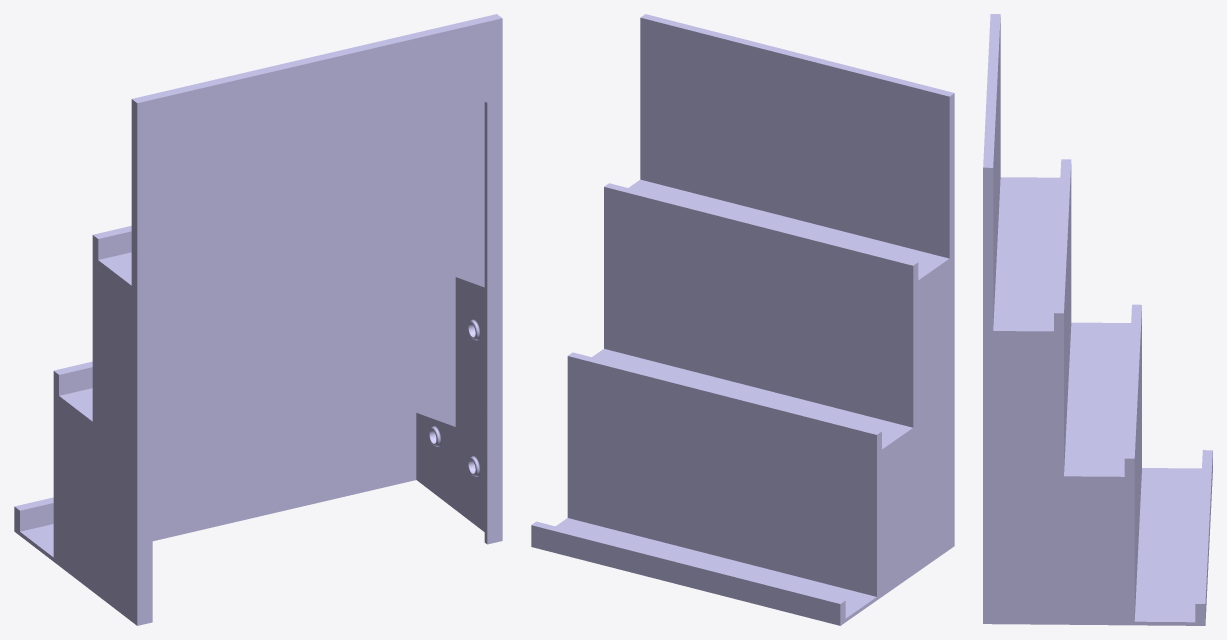
The model's file is graded_card_stand_white.glb.
3 renders of one model, left to right at view 1: azimuth 30°, elevation 25°; view 2: azimuth 150°, elevation 25°; view 3: azimuth 270°, elevation 25°, orthographic. The views are drawn at different scales.
Parts seen in each view (by area): view 1: SHOP_GradedCardStandWide 2; view 2: SHOP_GradedCardStandWide 2; view 3: SHOP_GradedCardStandWide 2.
Boxes of the visible parts, x1=… form: SHOP_GradedCardStandWide 2: x1=14, y1=14, x2=502, y2=625; SHOP_GradedCardStandWide 2: x1=531, y1=14, x2=954, y2=625; SHOP_GradedCardStandWide 2: x1=983, y1=14, x2=1212, y2=625.
Bounding box in the file's own units: 0.276 × 0.3772 × 0.1722.
